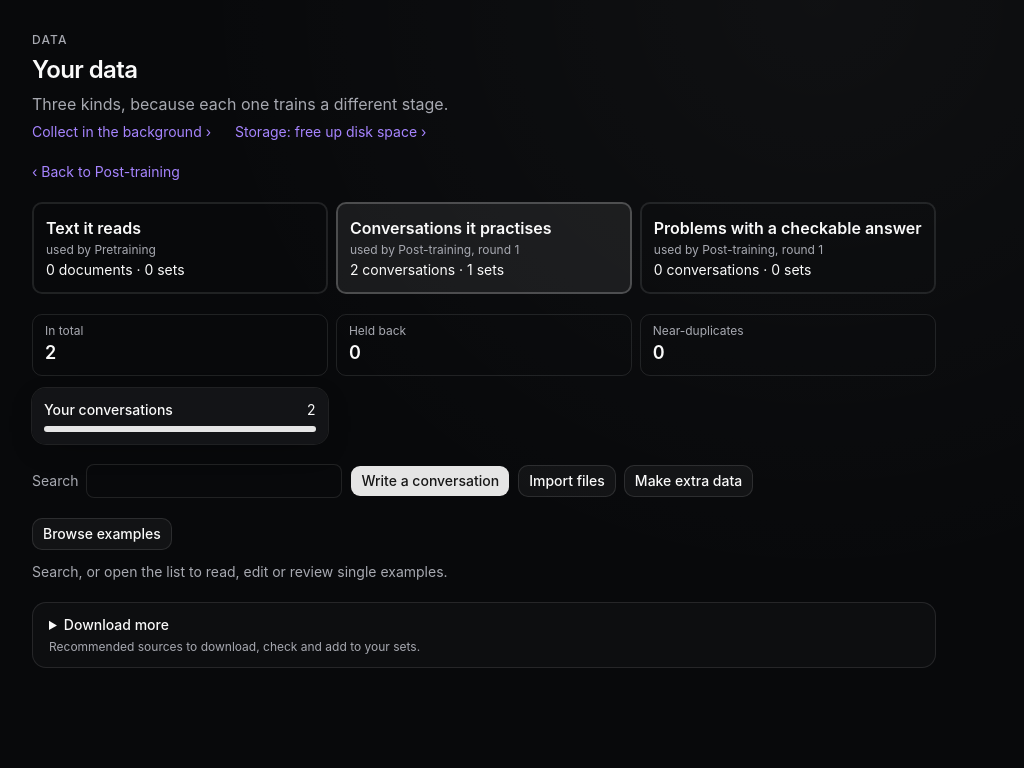
Test: Your data page › the three kinds show their counts; Browse examples lists one text column plus status, and a row opens in the detail
Expected: the heading "Your data" is shown, [32,55,137,84]
Expected: the tab "Conversations it practises" shows "2 conversations · 1 sets", [336,202,632,294]
What coordinates should you click on to do the following:
click the button "Browse examples"
I would click on:
 (102, 534)
Its box is [32,518,172,550].
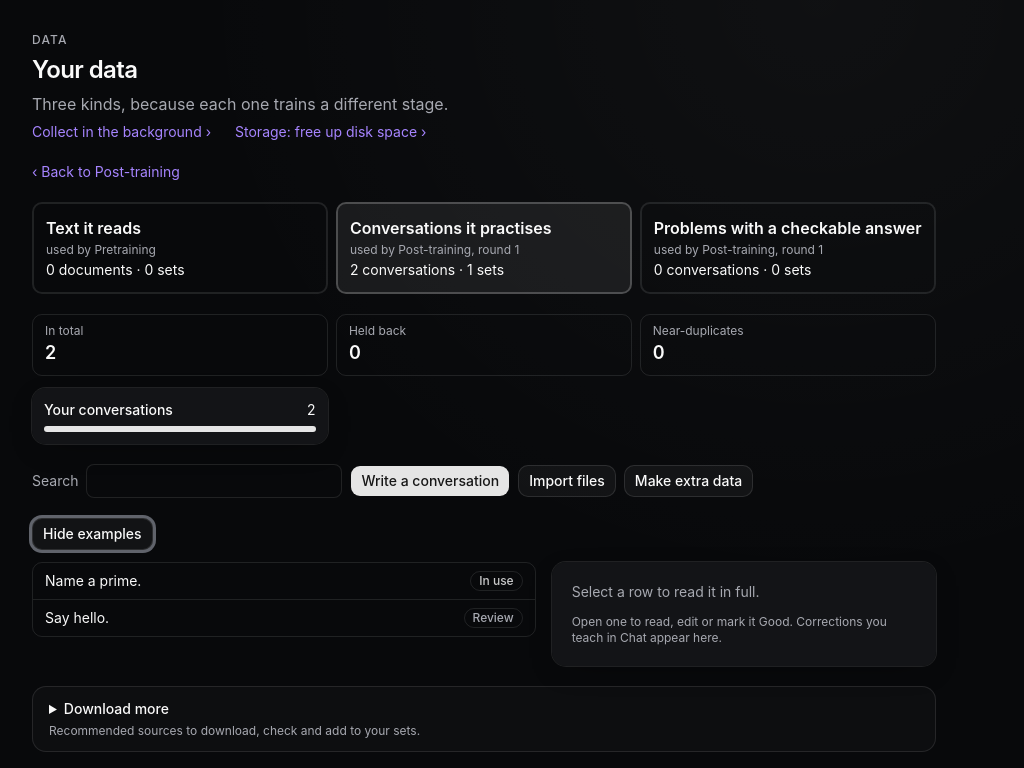
Expected: the list item with test id "row-c1" shows "Name a prime.", [45,572,141,589]
Expected: the list item with test id "row-c1" shows "In use", [479,573,514,588]
Expected: the element with test id "detail" shows "Select a row", [572,583,760,600]
What coordinates should you click on to do the following:
click the list item with test id "row-c2"
I would click on:
 (77, 618)
Its box is [45,608,523,628].
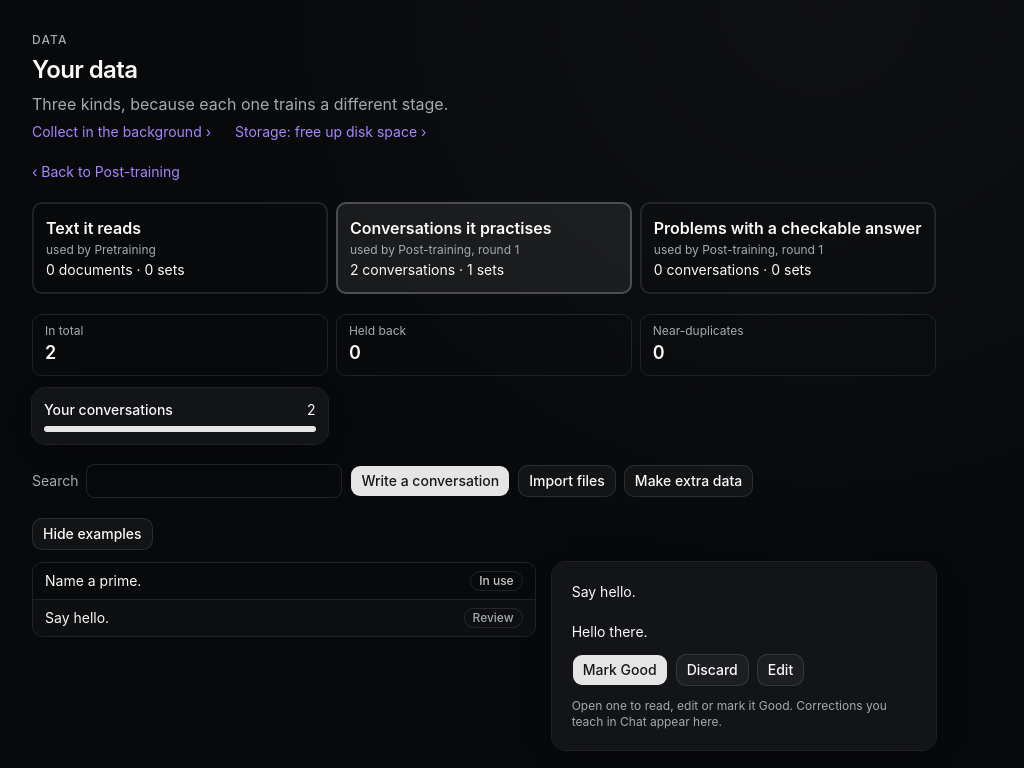
Expected: the element with test id "detail" shows "Hello there.", [572,623,648,640]
Expected: the button "Mark Good" is shown, [572,654,668,686]
